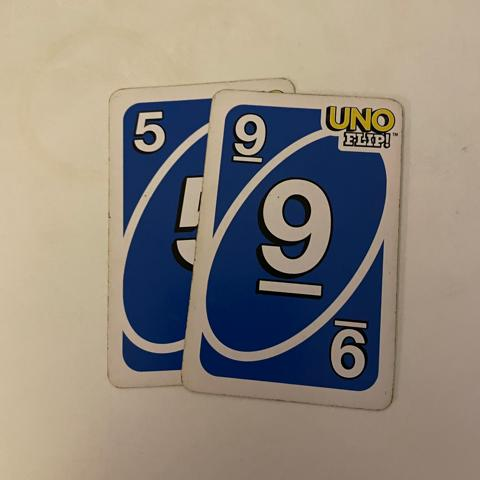lblue-5: (120, 98, 180, 165)
lblue-9: (221, 101, 280, 172)
